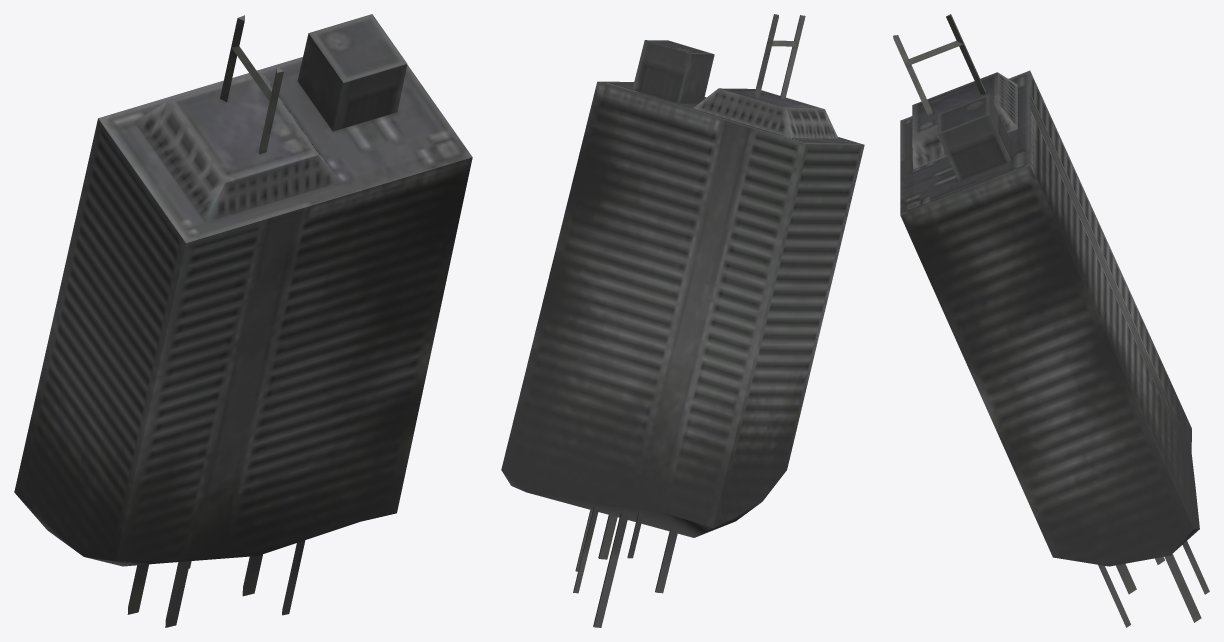
Rendered from skyBuildingAAC_pos_grp (12).fbx.
3 views of the same model, side by side, from view 1: azimuth 30°, elevation 25°; view 2: azimuth 150°, elevation 25°; view 3: azimuth 270°, elevation 25° (orthographic). The views are drawn at different scales.
Visible parts, largest first — view 1: skyBuildingAAC_geo; view 2: skyBuildingAAC_geo; view 3: skyBuildingAAC_geo.
Boxes of the visible parts, box(x1,y1,x2,y2) form: skyBuildingAAC_geo: box(14, 14, 472, 627); skyBuildingAAC_geo: box(501, 14, 864, 627); skyBuildingAAC_geo: box(893, 14, 1209, 627).
Bounding box in the file's own units: 4.88 × 11.1 × 5.56.
1 material, 1 textured.
